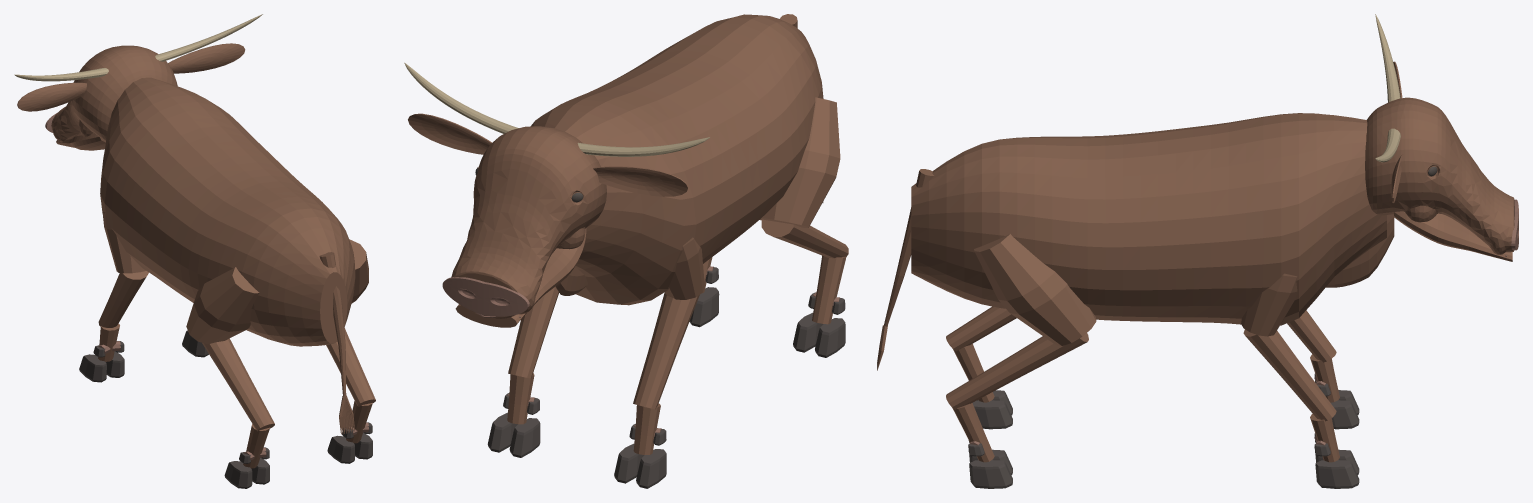
The model's file is bull-assembled.glb.
3 views of the same model, side by side, from view 1: azimuth 30°, elevation 25°; view 2: azimuth 150°, elevation 25°; view 3: azimuth 270°, elevation 25° (orthographic). The views are drawn at different scales.
Parts seen in each view (by area): view 1: body_Torso, body_Cranium, HindL_HindLUpper, HindL_HindLLower, body_EarR, FrontL_FrontLLower, body_EarL, HindR_HindRLower, body_Tail, FrontL_FrontLUpper, body_HornR, HindR_HindRUpper (+8 smaller); view 2: body_Torso, body_Cranium, HindL_HindLUpper, FrontL_FrontLLower, body_Nose, FrontR_FrontRLower, body_EarL, body_Jaw, body_EarR, HindL_HindLLower, FrontL_FrontLUpper, HindL_HindLPastern (+12 smaller); view 3: body_Torso, body_Cranium, HindR_HindRUpper, HindR_HindRLower, FrontR_FrontRLower, FrontR_FrontRUpper, body_Jaw, body_Dewlap, HindL_HindLLower, FrontL_FrontLLower, body_Tail, FrontR_FrontRClove1 (+7 smaller).
Boxes of the visible parts, <box> form: body_Torso: <box>100,77,355,346</box>; body_Cranium: <box>51,45,177,142</box>; HindL_HindLUpper: <box>186,267,259,344</box>; HindL_HindLLower: <box>202,338,274,431</box>; body_EarR: <box>168,43,245,73</box>; FrontL_FrontLLower: <box>98,271,148,327</box>; body_EarL: <box>17,82,86,111</box>; HindR_HindRLower: <box>326,328,375,406</box>; body_Tail: <box>319,252,346,396</box>; FrontL_FrontLUpper: <box>102,211,145,273</box>; body_HornR: <box>155,14,262,61</box>; HindR_HindRUpper: <box>349,239,368,303</box>; body_Torso: <box>531,14,823,305</box>; body_Cranium: <box>451,126,606,318</box>; HindL_HindLUpper: <box>760,97,840,228</box>; FrontL_FrontLLower: <box>633,292,699,409</box>; body_Nose: <box>442,277,529,316</box>; FrontR_FrontRLower: <box>508,287,559,378</box>; body_EarL: <box>593,166,688,196</box>; body_Jaw: <box>455,228,586,327</box>; body_EarR: <box>408,113,491,154</box>; HindL_HindLLower: <box>761,219,848,258</box>; FrontL_FrontLUpper: <box>665,237,704,299</box>; HindL_HindLPastern: <box>812,255,846,324</box>; body_Torso: <box>911,113,1386,325</box>; body_Cranium: <box>1365,97,1514,254</box>; HindR_HindRUpper: <box>974,234,1096,345</box>; HindR_HindRLower: <box>946,333,1088,409</box>; FrontR_FrontRLower: <box>1243,329,1336,421</box>; FrontR_FrontRUpper: <box>1241,273,1297,336</box>; body_Jaw: <box>1394,211,1512,261</box>; body_Dewlap: <box>1326,214,1394,287</box>; HindL_HindLLower: <box>946,306,1016,351</box>; FrontL_FrontLLower: <box>1287,310,1336,362</box>; body_Tail: <box>883,169,933,326</box>; FrontR_FrontRClove1: <box>1315,460,1359,488</box>.
Size of the model in its own units: 1.45 by 1.7 by 2.73.
